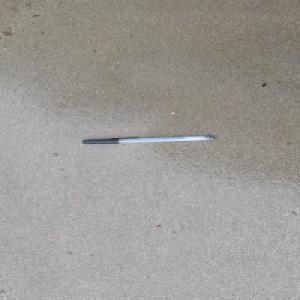Pen: (81, 134, 215, 144)
